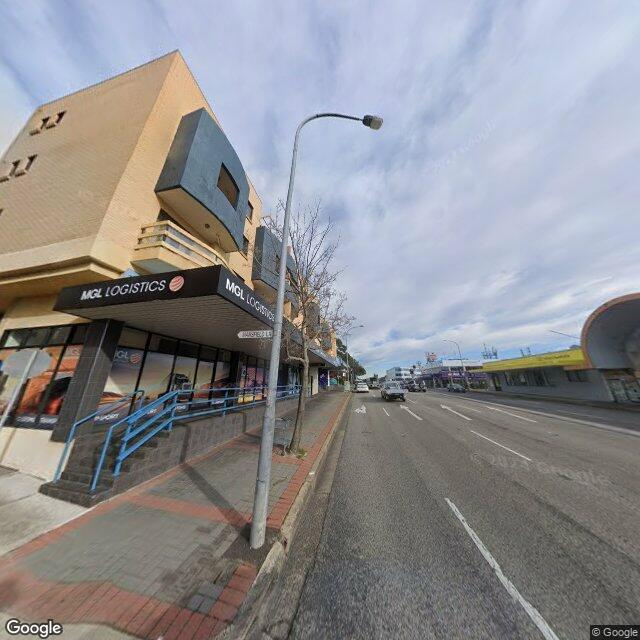steel-pole: (248, 125, 302, 548), (347, 332, 349, 380), (458, 344, 462, 358)
streetlight: (301, 113, 385, 131), (347, 324, 364, 334), (443, 340, 458, 344)
